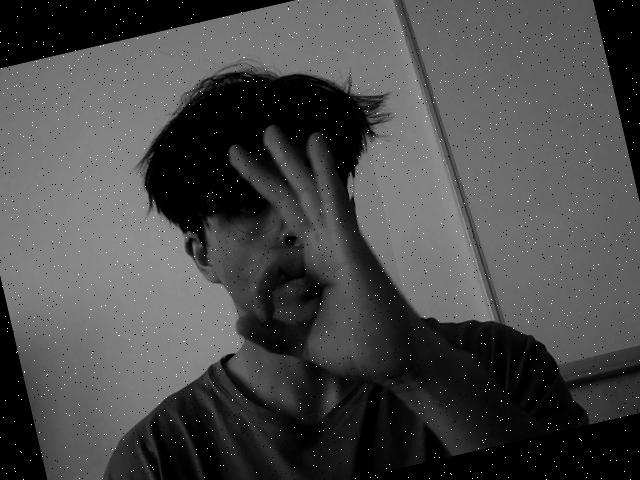OK: (224, 123, 414, 392)
